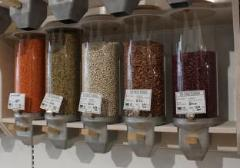glass: (11, 3, 221, 128)
